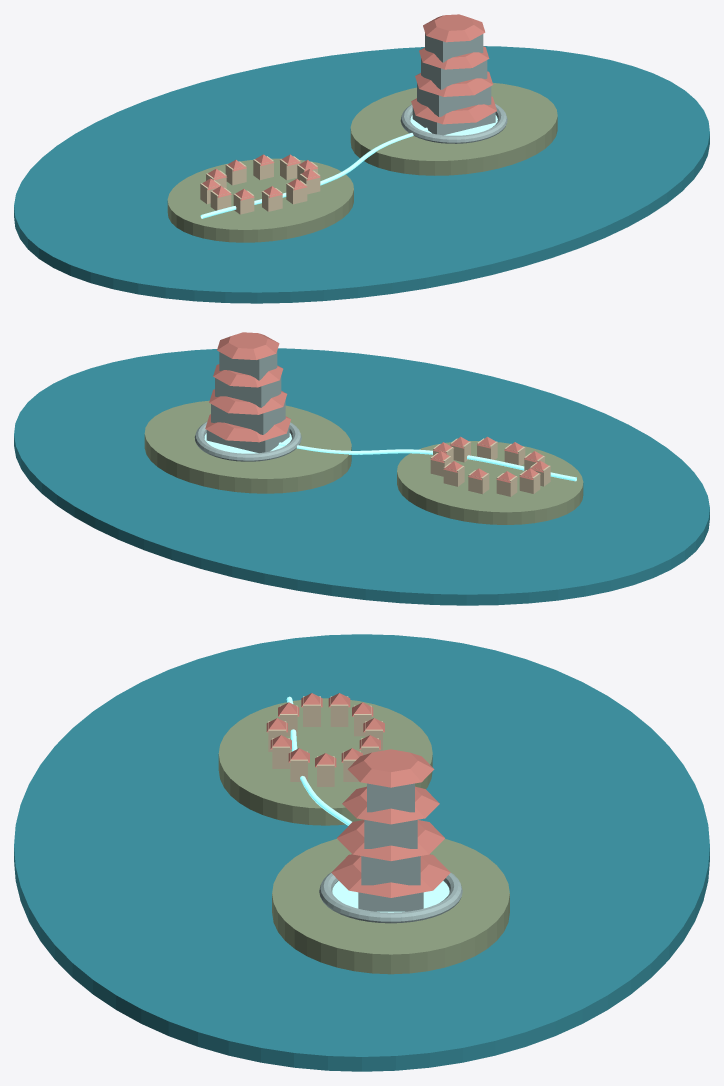
Rendered from conomi-arlong-park.glb.
3 views of the same model, one above another, from view 1: azimuth 30°, elevation 25°; view 2: azimuth 150°, elevation 25°; view 3: azimuth 270°, elevation 25° (orthographic). The views are drawn at different scales.
Visible parts, largest first — view 1: Conomi sea stage, Arlong Park island, Cocoyasi island, Arlong pagoda roof 4, Arlong pool, Arlong headquarters tier 2, Arlong pagoda roof 1, Arlong headquarters tier 3, Arlong pagoda roof 2, Arlong headquarters tier 4, Arlong pagoda roof 3, Arlong headquarters tier 1 (+1 smaller); view 2: Conomi sea stage, Arlong Park island, Cocoyasi island, Arlong pagoda roof 4, Arlong pool, Arlong headquarters tier 2, Arlong pagoda roof 1, Arlong headquarters tier 3, Conomi boat route, Arlong pagoda roof 2, Arlong headquarters tier 4, Arlong pagoda roof 3 (+1 smaller); view 3: Conomi sea stage, Arlong Park island, Cocoyasi island, Arlong pagoda roof 4, Arlong pagoda roof 1, Arlong pool, Arlong pagoda roof 2, Arlong pagoda roof 3, Arlong headquarters tier 2, Arlong headquarters tier 3, Arlong headquarters tier 4, Arlong headquarters tier 1 (+1 smaller).
Boxes of the visible parts, <box> form: Conomi sea stage: <box>14,46,709,303</box>; Arlong Park island: <box>350,83,557,175</box>; Cocoyasi island: <box>167,158,353,242</box>; Arlong pagoda roof 4: <box>423,14,485,42</box>; Arlong pool: <box>400,104,507,143</box>; Arlong headquarters tier 2: <box>417,83,491,116</box>; Arlong pagoda roof 1: <box>411,96,496,124</box>; Arlong headquarters tier 3: <box>421,58,487,89</box>; Arlong pagoda roof 2: <box>415,71,493,96</box>; Arlong headquarters tier 4: <box>425,33,483,62</box>; Arlong pagoda roof 3: <box>419,46,489,69</box>; Arlong headquarters tier 1: <box>412,107,495,135</box>; Conomi sea stage: <box>14,348,709,605</box>; Arlong Park island: <box>144,400,351,493</box>; Cocoyasi island: <box>397,441,583,524</box>; Arlong pagoda roof 4: <box>217,332,279,359</box>; Arlong pool: <box>194,422,301,461</box>; Arlong headquarters tier 2: <box>211,400,285,434</box>; Arlong pagoda roof 1: <box>205,414,291,442</box>; Arlong headquarters tier 3: <box>215,376,281,407</box>; Conomi boat route: <box>278,442,576,481</box>; Arlong pagoda roof 2: <box>209,389,287,414</box>; Arlong headquarters tier 4: <box>219,351,277,380</box>; Arlong pagoda roof 3: <box>213,364,283,387</box>; Conomi sea stage: <box>14,634,709,1071</box>; Arlong Park island: <box>272,839,509,974</box>; Cocoyasi island: <box>218,698,432,825</box>; Arlong pagoda roof 4: <box>347,749,434,787</box>; Arlong pagoda roof 1: <box>331,854,450,897</box>; Arlong pool: <box>319,872,462,923</box>; Arlong pagoda roof 2: <box>337,820,444,860</box>; Arlong pagoda roof 3: <box>342,786,439,824</box>; Arlong headquarters tier 2: <box>361,856,420,885</box>; Arlong headquarters tier 3: <box>364,820,417,848</box>; Arlong headquarters tier 4: <box>367,783,414,812</box>; Arlong headquarters tier 1: <box>358,892,423,911</box>.
Bounding box in the file's own units: 27.6 × 5.09 × 19.2.
